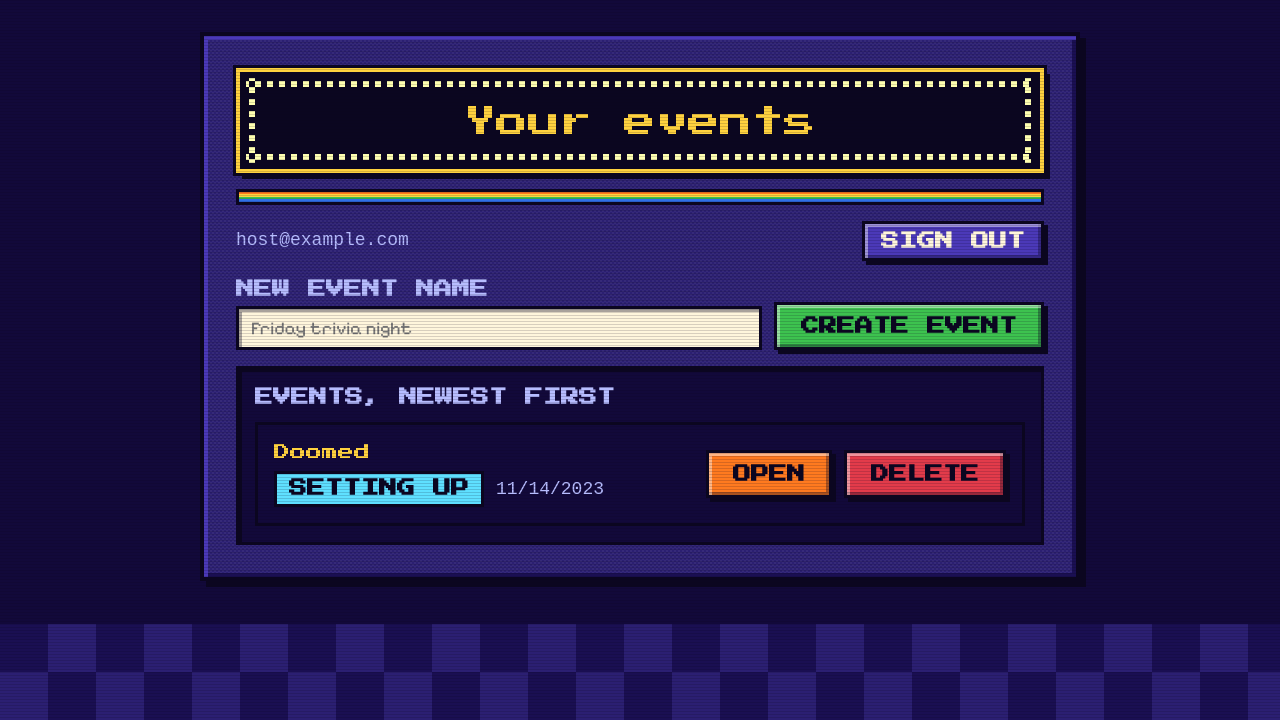
Test case: EventsScreen › deletes only on the second tap
Click the button with aria-label "Delete Doomed" at point(925, 474), box [844,450,1006,498]
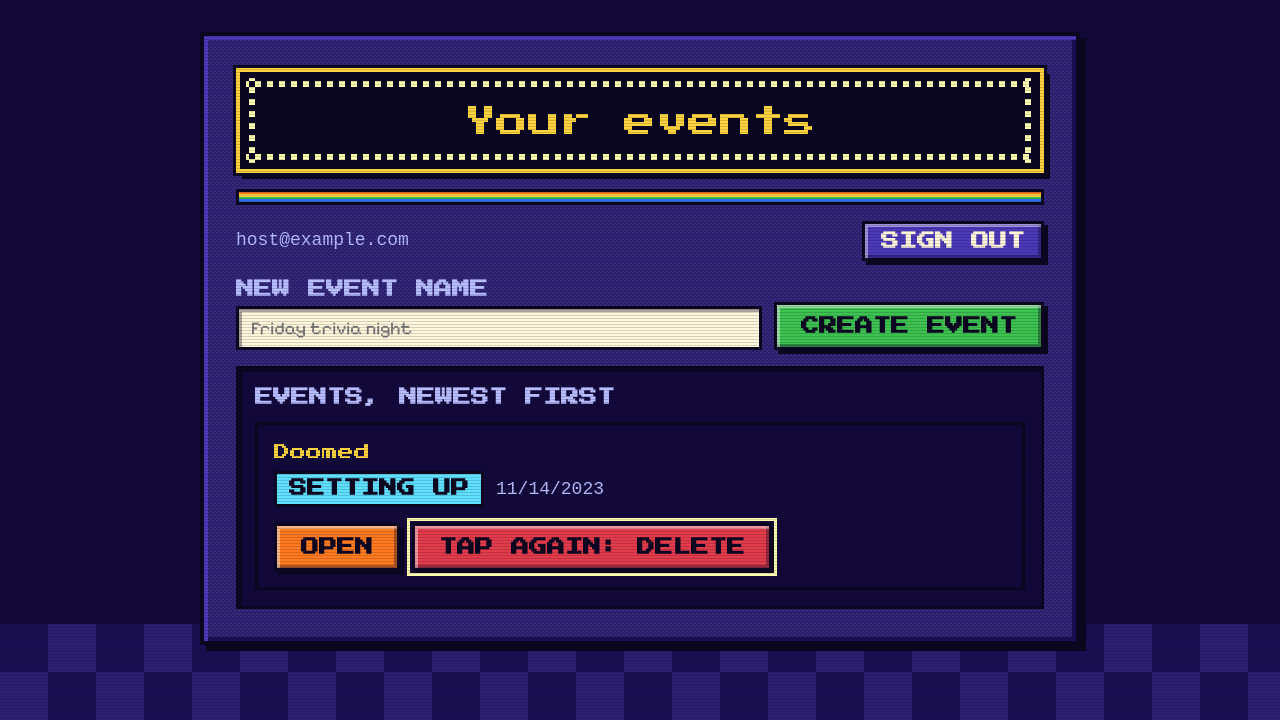
Expected: the button with aria-label "Tap again to delete Doomed" reads "Tap again: delete"
Click the button with aria-label "Tap again to delete Doomed" at point(592, 547), box [412,523,772,571]
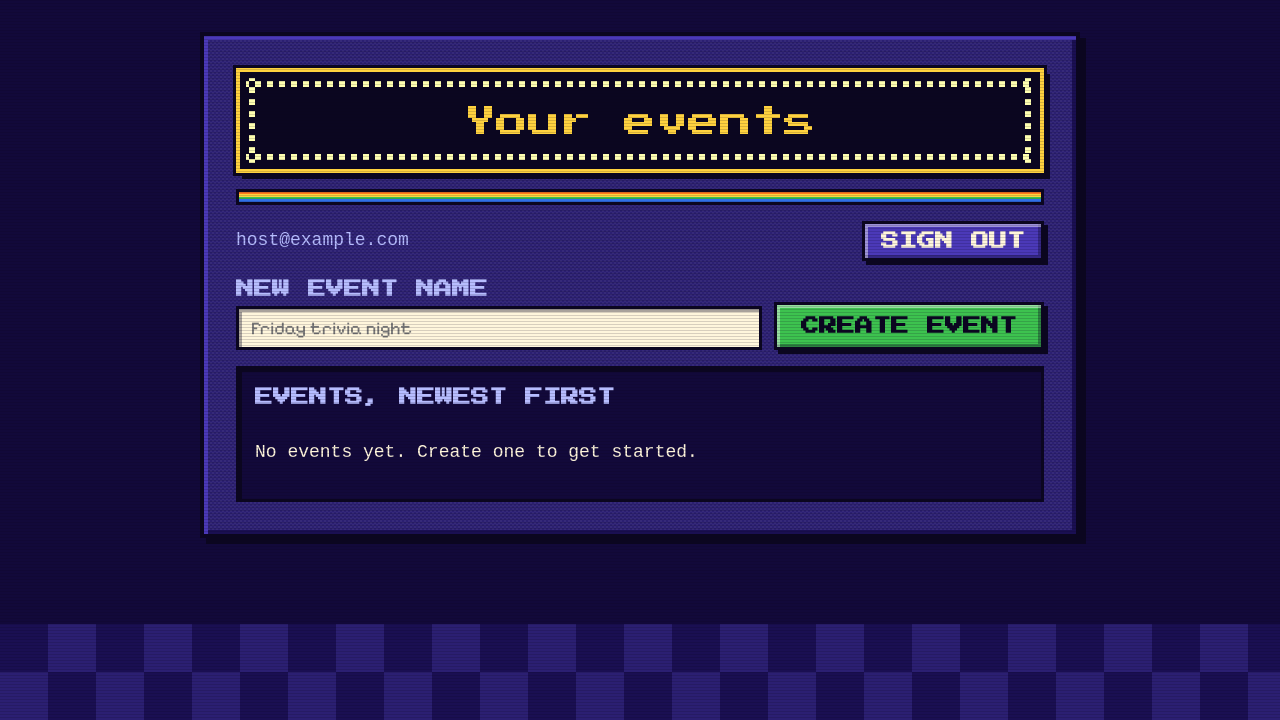
Expected: the text "Doomed" is gone
